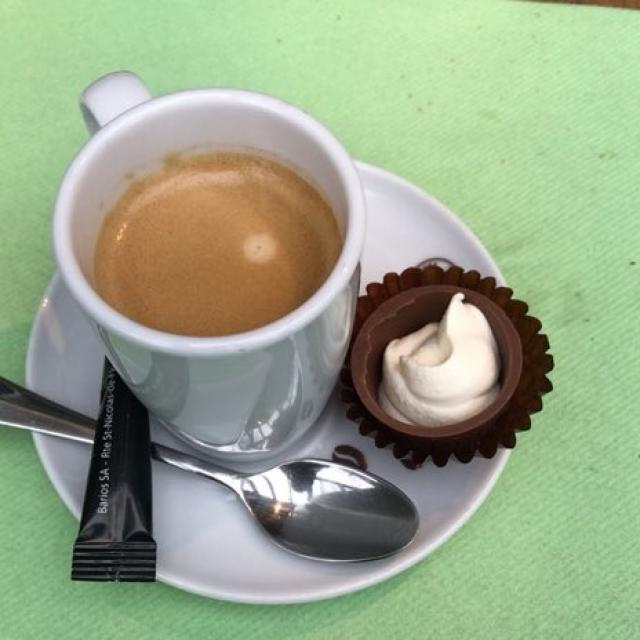chocolate: (344, 281, 526, 430)
cream: (361, 275, 511, 432)
espresso-with-caffeine: (93, 148, 336, 333)
